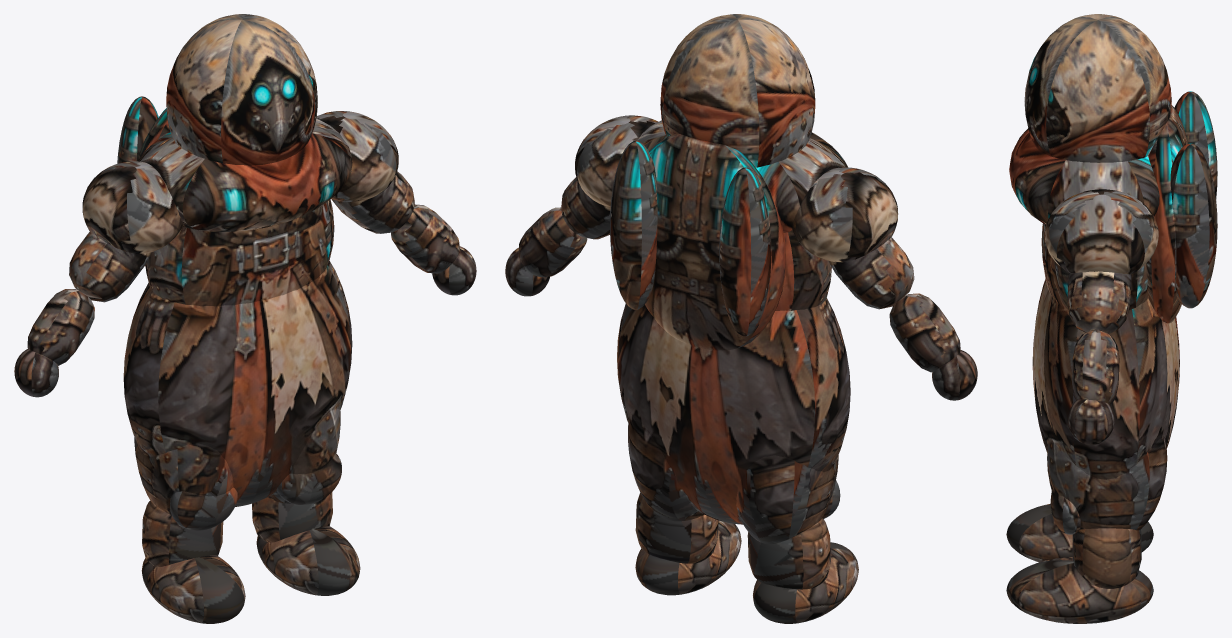
Rendered from ashland-survivor-r17.glb.
The picture shows the model from 3 angles, left to right: view 1: azimuth 30°, elevation 25°; view 2: azimuth 150°, elevation 25°; view 3: azimuth 270°, elevation 25°; orthographic projection. The views are drawn at different scales.
Parts seen in each view (by area): view 1: Hero | torn coat volume, Hero | hood and gas mask mass, Hero | scarf and collar mass, Hero | armored torso, Hero | shoulder pauldron L, Hero | scavenger boot L, Hero | scavenger boot R, Hero | thigh L, Hero | shoulder pauldron R, Hero | upper sleeve L, Hero | armored forearm L, Hero | wrapped shin L (+9 smaller); view 2: Hero | torn coat volume, Hero | hood and gas mask mass, Hero | rear pack volume, Hero | shoulder pauldron L, Hero | reactor tank L, Hero | reactor tank R, Hero | thigh L, Hero | wrapped shin L, Hero | scavenger boot L, Hero | scarf and collar mass, Hero | armored forearm L, Hero | shoulder pauldron R (+9 smaller); view 3: Hero | hood and gas mask mass, Hero | torn coat volume, Hero | shoulder pauldron R, Hero | scarf and collar mass, Hero | thigh R, Hero | scavenger boot R, Hero | reactor tank R, Hero | rear pack volume, Hero | wrapped shin R, Hero | upper sleeve R, Hero | armored forearm R, Hero | scavenger boot L (+4 smaller).
Part boxes in pixels (x1,y1,x2,y2): Hero | torn coat volume: (123,261,352,506); Hero | hood and gas mask mass: (166,14,317,165); Hero | scarf and collar mass: (138,118,352,231); Hero | armored torso: (145,199,334,306); Hero | shoulder pauldron L: (82,161,182,253); Hero | scavenger boot L: (141,555,245,623); Hero | scavenger boot R: (256,526,360,595); Hero | thigh L: (134,437,233,514); Hero | shoulder pauldron R: (316,111,398,201); Hero | upper sleeve L: (69,232,151,302); Hero | armored forearm L: (27,289,94,365); Hero | wrapped shin L: (142,500,223,566); Hero | torn coat volume: (617,298,850,524); Hero | hood and gas mask mass: (660,14,815,167); Hero | rear pack volume: (645,134,785,350); Hero | shoulder pauldron L: (792,167,898,262); Hero | reactor tank L: (719,167,771,336); Hero | reactor tank R: (610,140,657,309); Hero | thigh L: (736,455,838,543); Hero | wrapped shin L: (747,518,830,589); Hero | scavenger boot L: (753,542,858,623); Hero | scarf and collar mass: (637,120,847,232); Hero | armored forearm L: (889,293,960,372); Hero | shoulder pauldron R: (575,115,658,207); Hero | hood and gas mask mass: (1024,14,1171,162); Hero | torn coat volume: (1032,279,1179,479); Hero | shoulder pauldron R: (1045,189,1158,274); Hero | scarf and collar mass: (1009,128,1159,224); Hero | thigh R: (1047,437,1167,530); Hero | scavenger boot R: (1006,557,1153,623); Hero | reactor tank R: (1170,143,1217,308); Hero | rear pack volume: (1146,105,1187,323); Hero | wrapped shin R: (1072,528,1141,588); Hero | upper sleeve R: (1067,271,1131,333); Hero | armored forearm R: (1072,329,1119,405); Hero | scavenger boot L: (1006,503,1153,562).
Bounding box in the file's own units: 1.75 × 2.09 × 0.702.
4 materials, 4 textured.
